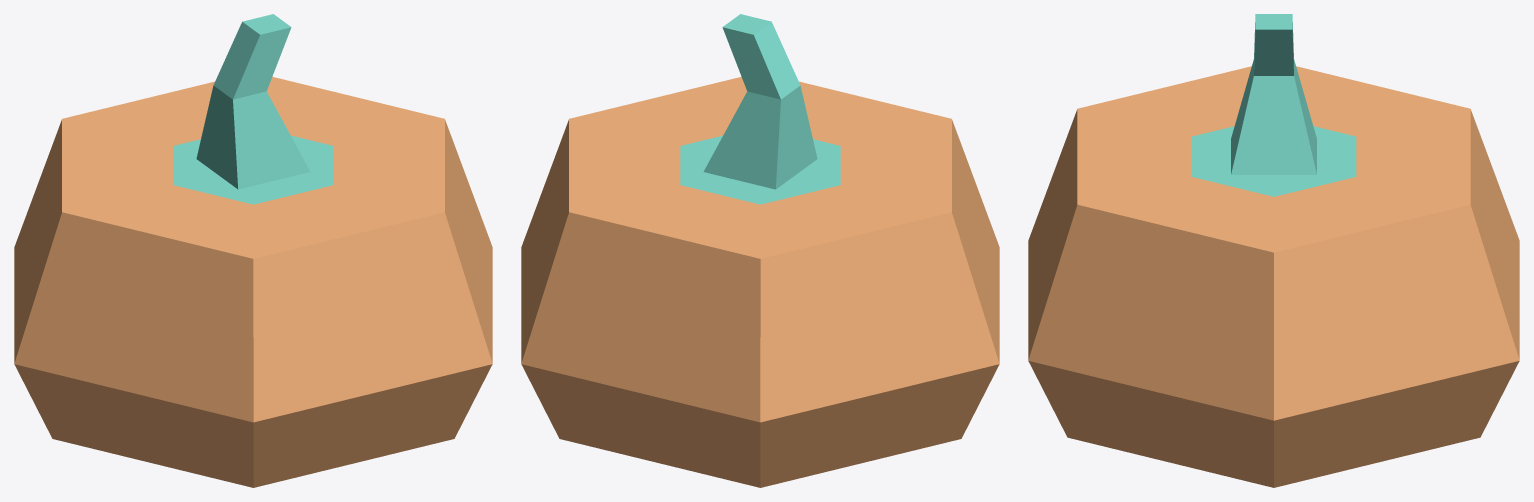
The model's file is pumpkin.glb.
3 views of the same model, side by side, from view 1: azimuth 30°, elevation 25°; view 2: azimuth 150°, elevation 25°; view 3: azimuth 270°, elevation 25° (orthographic). The views are drawn at different scales.
Parts seen in each view (by area): view 1: pumpkin; view 2: pumpkin; view 3: pumpkin.
Part boxes in pixels (left/top/right/bottom): pumpkin: left=14, top=14, right=492, bottom=487; pumpkin: left=521, top=14, right=999, bottom=487; pumpkin: left=1028, top=14, right=1519, bottom=487.
Size of the model in its own units: 0.357 by 0.2583 by 0.3092.
